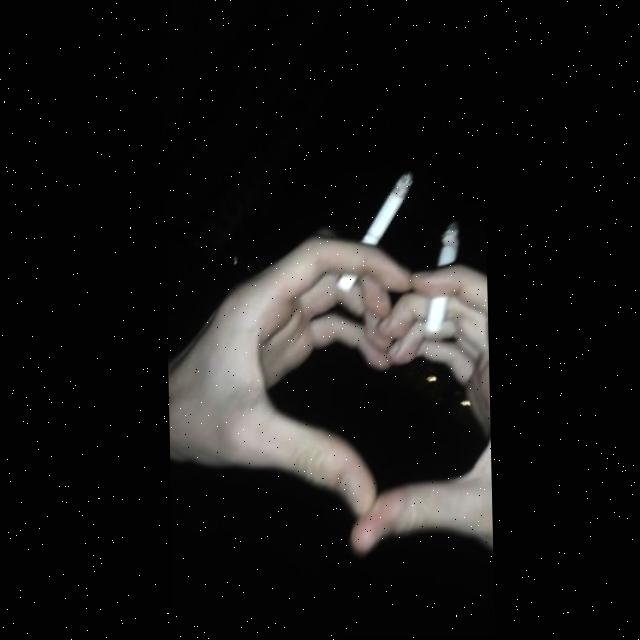cigarette: (336, 175, 413, 293), (421, 223, 463, 334)
